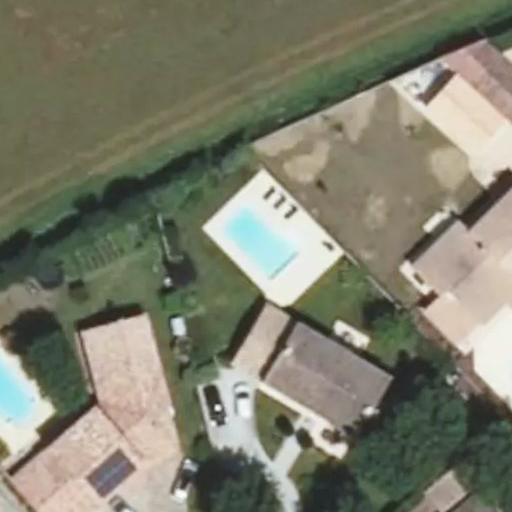pool: (217, 230, 294, 253)
